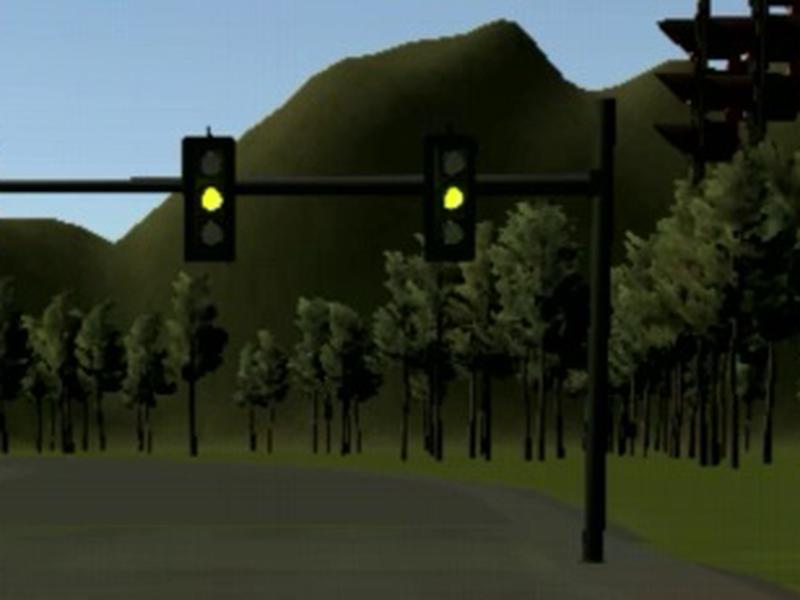Yellow: (424, 137, 478, 263), (182, 136, 235, 263)
